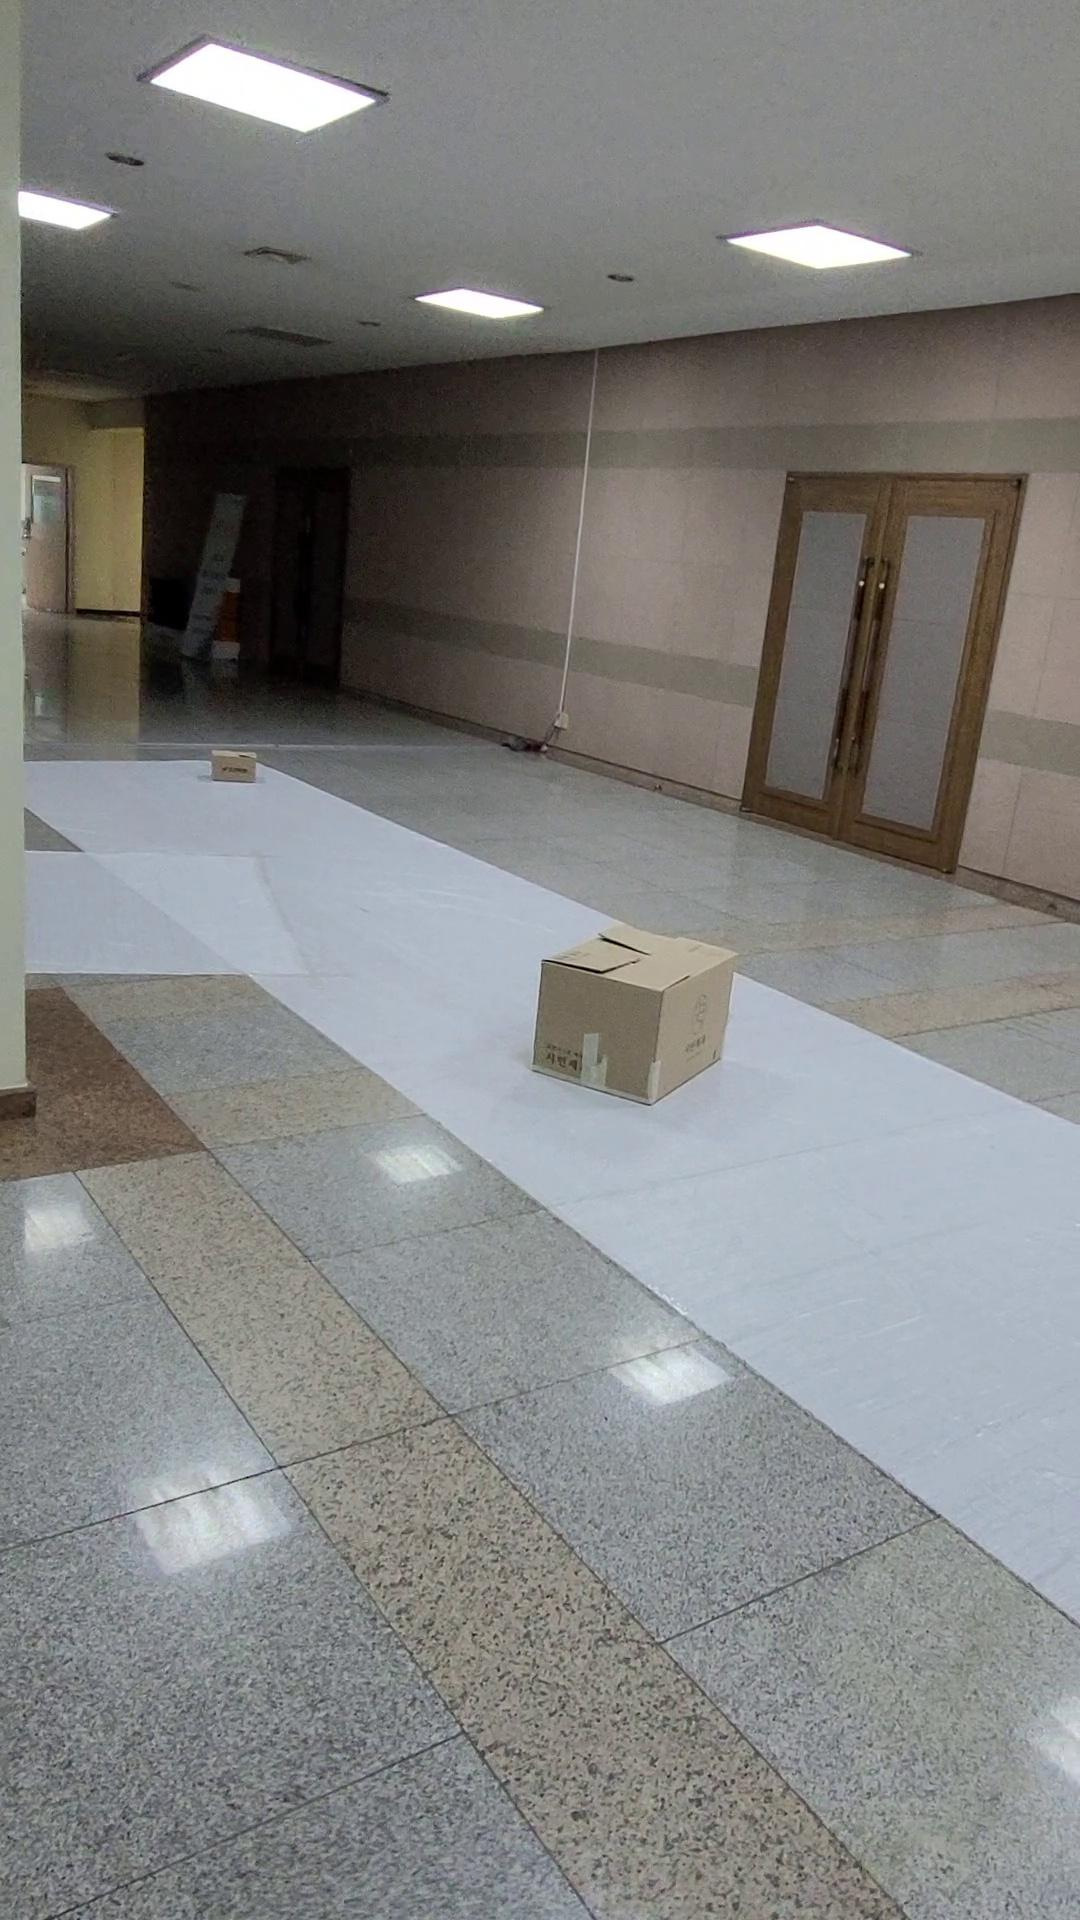Box: (513, 895, 793, 1130), (181, 715, 320, 812)
